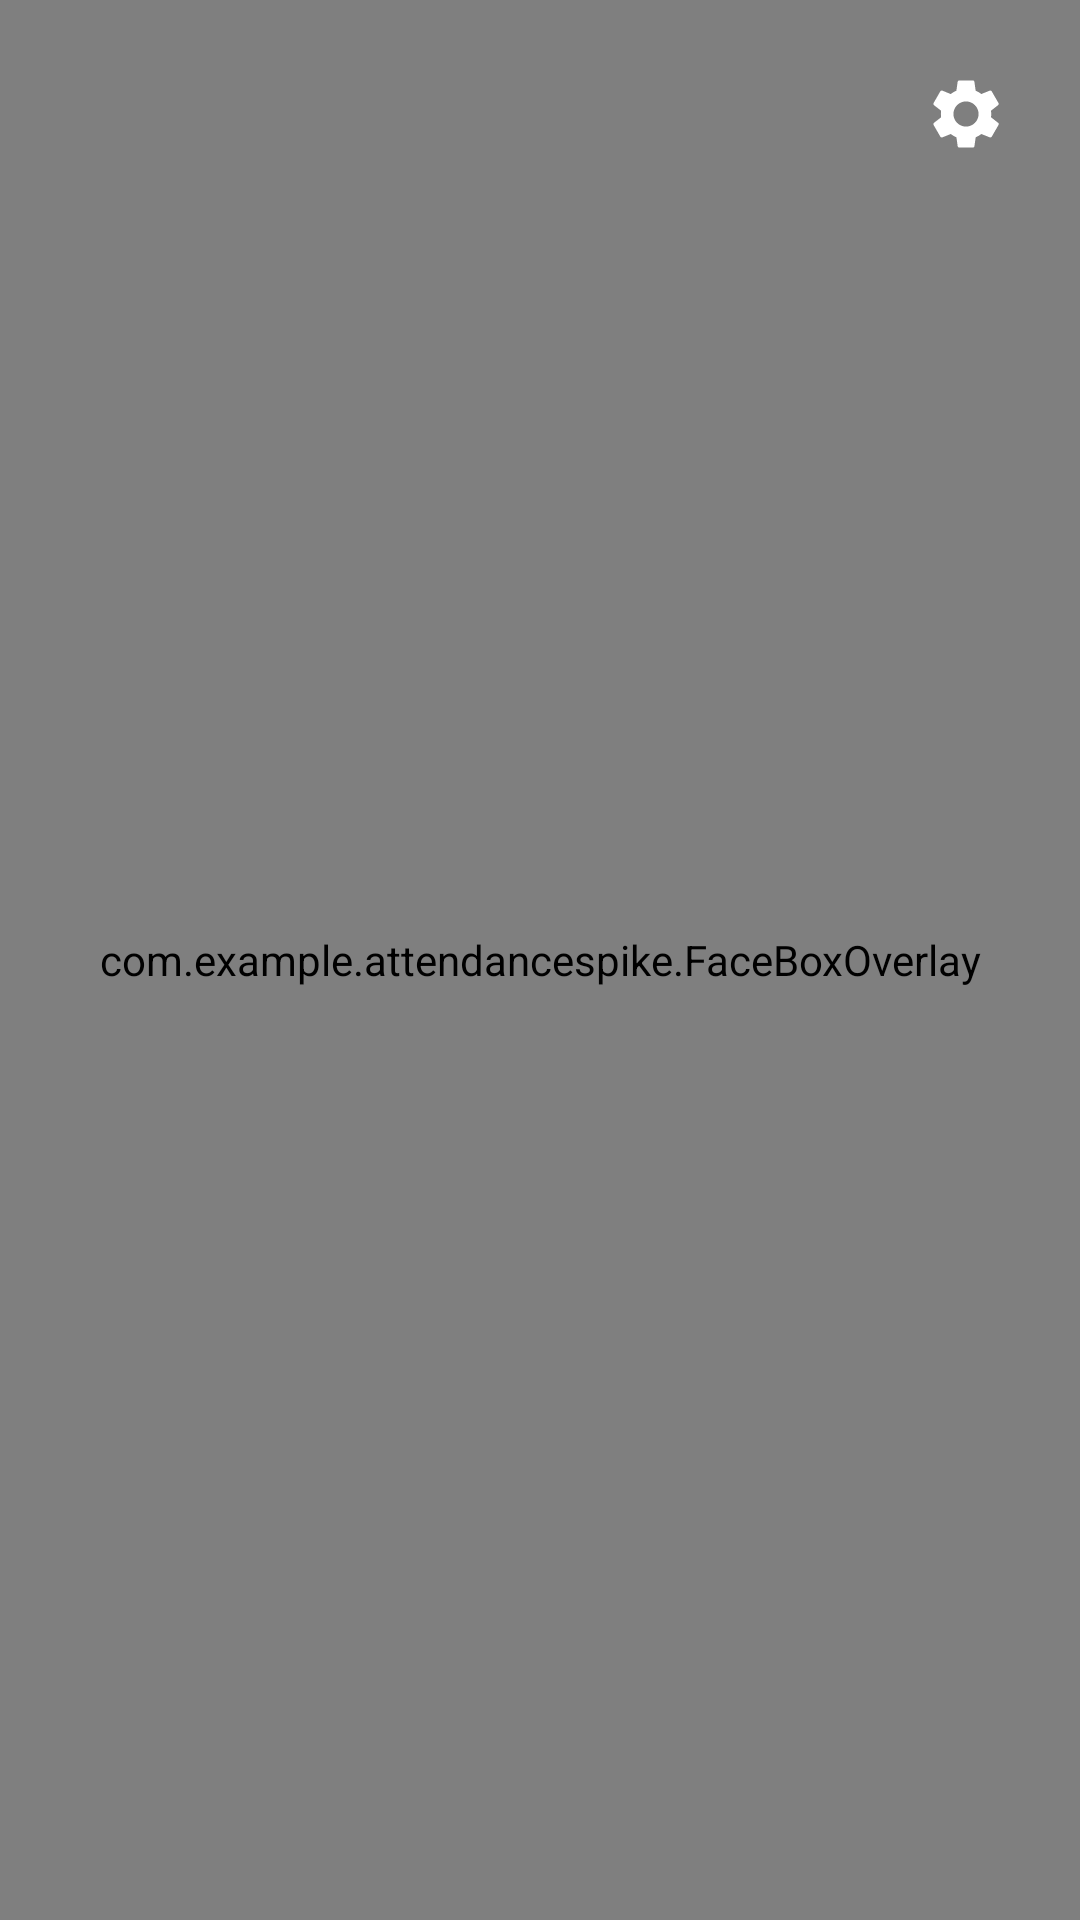

Locate icon controls on the screen. Image size 1080px×1920px, boxes as bbox(x1, y1, x2, y2).
Sozlamalar: bbox(933, 80, 999, 148)
